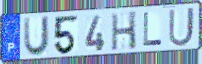4: (83, 13, 107, 53)
5: (52, 14, 80, 56)
H: (110, 10, 138, 52)
L: (142, 12, 164, 48)
U: (22, 15, 51, 58), (167, 6, 196, 49)
